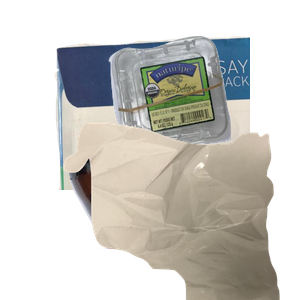glass: (66, 120, 300, 300)
paper: (52, 34, 292, 214)
plastic: (106, 34, 300, 183)
trash: (61, 120, 300, 300)
